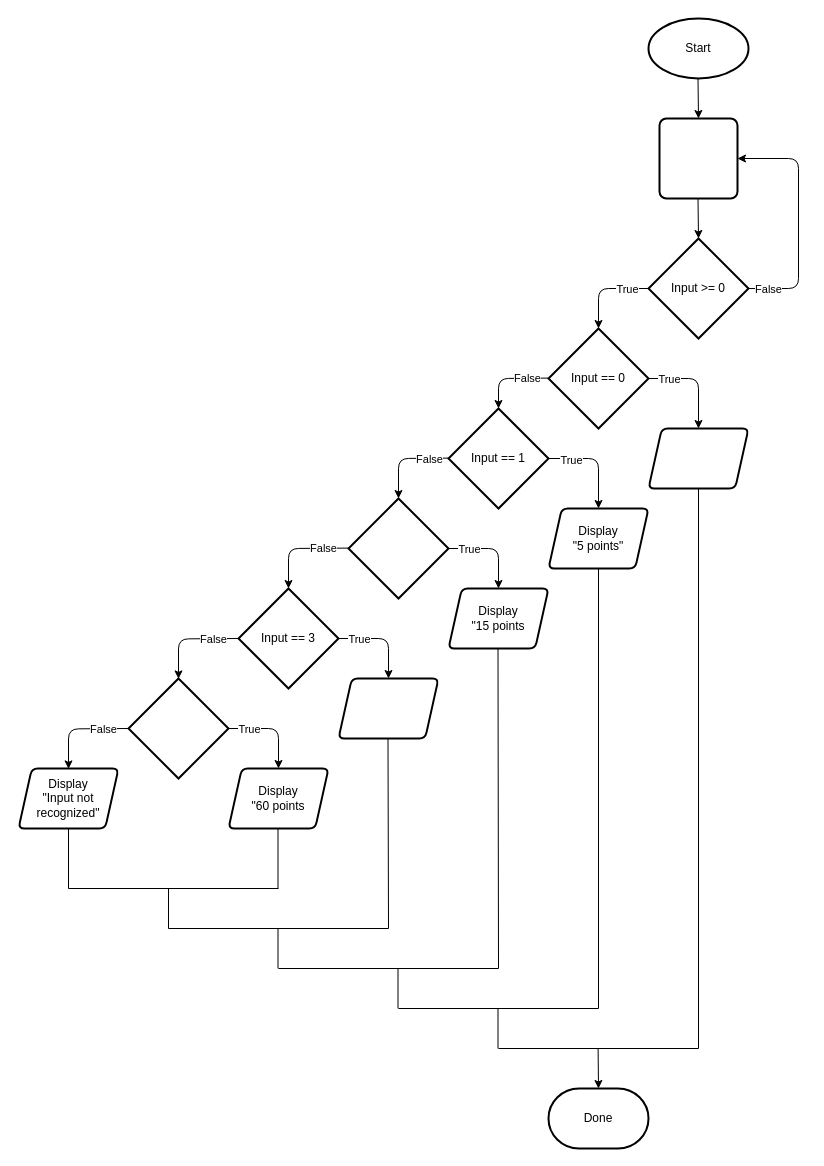
Image size: 824x1166. Some labels were removed from this diagram. Each missing label, with the centre of its shape:
Display "0 points": (698,458)
Display "30 points: (388,708)
Input == 2: (398,548)
Input >= 4: (178,728)
User Inputs # of Books Purchased: (698,158)
